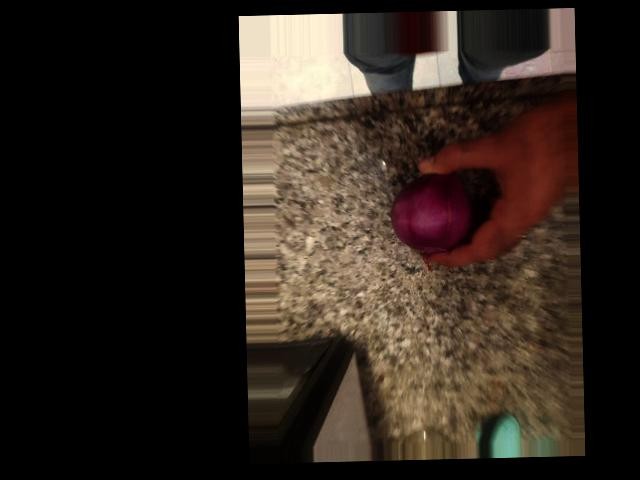onion: (289, 240, 376, 325)
